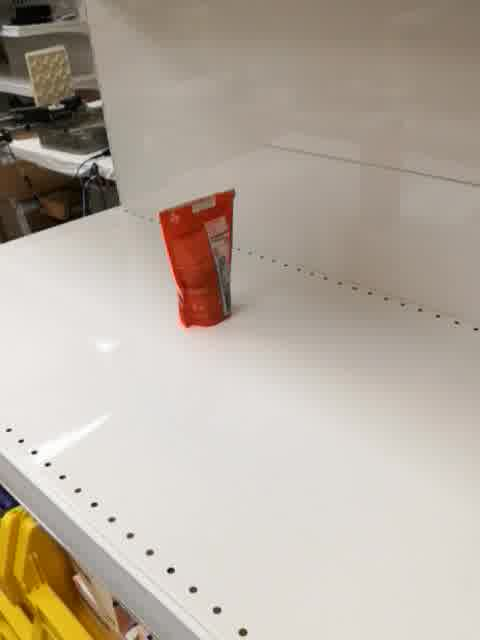whitechia: (156, 186, 238, 330)
